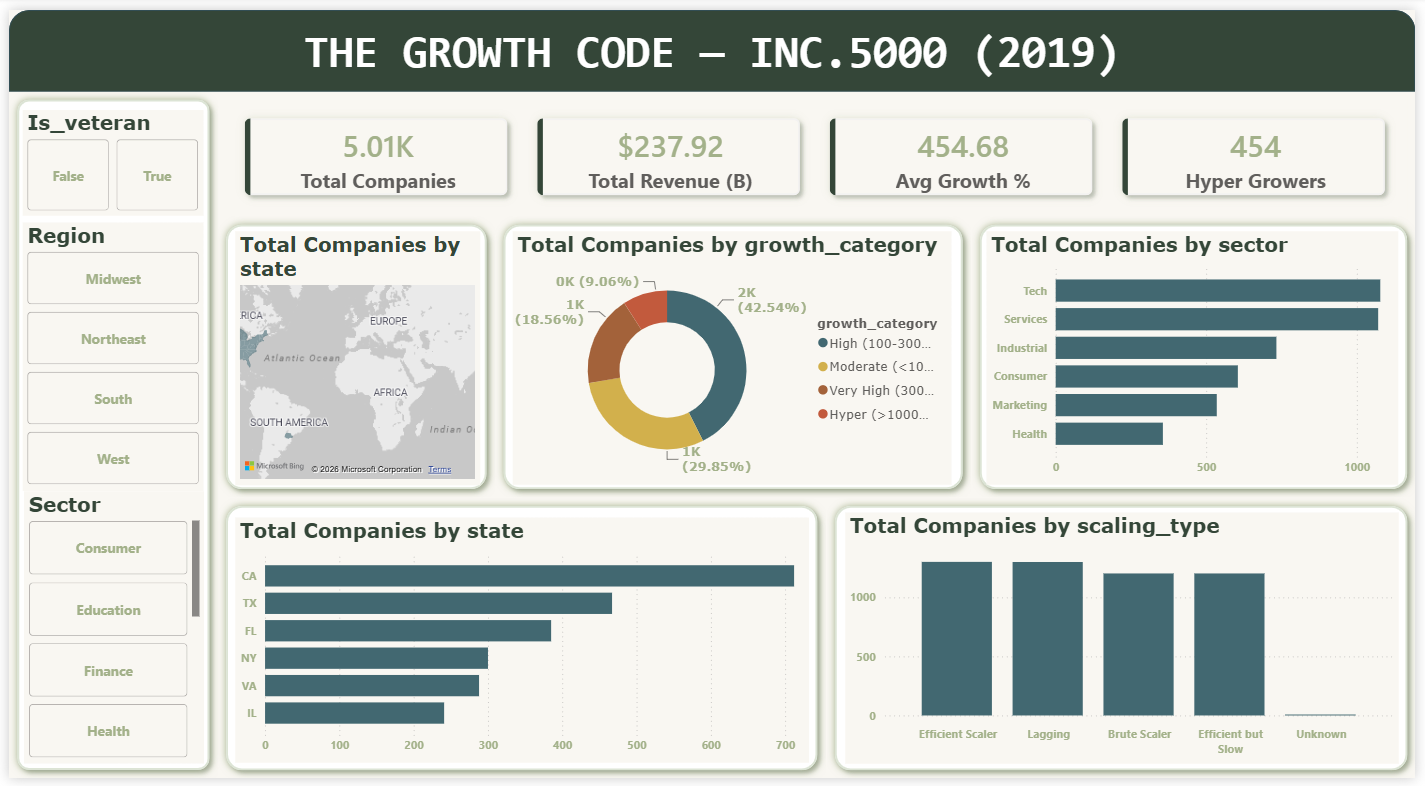

The dashboard page shown, as its layout file describes it:
{"tool":"powerbi","page":{"name":"Page 1","canvas":[1500,820],"ordinal":0},"visuals":[{"type":"cardVisual","fields":{"Data":["inc5000_analytics companies.Total Companies","inc5000_analytics companies.Total Revenue (B)","inc5000_analytics companies.Avg Growth %","inc5000_analytics companies.Hyper Growers"]},"box":[222.9,87.1,1277.1,140],"z":0},{"type":"shape","box":[0,0,1500,87.1],"z":1000},{"type":"textbox","box":[0,12,1500,74.7],"z":2000},{"type":"shape","box":[222.9,220,295.7,300],"z":3000},{"type":"filledMap","fields":{"Category":["inc5000_analytics companies.state"]},"box":[240.8,236.2,260.8,270],"z":4000},{"type":"shape","box":[518.8,220,507.5,300],"z":5000},{"type":"donutChart","fields":{"Category":["inc5000_analytics companies.growth_category"],"Y":["inc5000_analytics companies.Total Companies"]},"box":[537.7,236.2,467.7,270],"z":6000},{"type":"shape","box":[1026.2,220,473.8,300],"z":7000},{"type":"clusteredBarChart","fields":{"Category":["inc5000_analytics companies.sector"],"Y":["inc5000_analytics companies.Total Companies"]},"box":[1043.1,236.2,439.2,270],"z":8000},{"type":"shape","box":[0,87.1,222.9,732.9],"z":9000},{"type":"advancedSlicerVisual","fields":{"Values":["inc5000_analytics companies.region"]},"box":[15,227,193,286],"z":10000},{"type":"advancedSlicerVisual","fields":{"Values":["inc5000_analytics companies.is_veteran"]},"box":[15,107,193,113],"z":11000},{"type":"advancedSlicerVisual","fields":{"Values":["inc5000_analytics companies.sector"]},"box":[15.4,513.1,192.3,290],"z":12000},{"type":"shape","box":[222.9,520,648.6,300],"z":13000},{"type":"clusteredBarChart","fields":{"Category":["inc5000_analytics companies.state"],"Y":["inc5000_analytics companies.Total Companies"]},"box":[240.8,541.5,612.3,261.5],"z":14000},{"type":"shape","box":[871.4,520,628.6,300],"z":15000},{"type":"columnChart","fields":{"Category":["inc5000_analytics companies.scaling_type"],"Y":["inc5000_analytics companies.Total Companies"]},"box":[892.3,535.4,590.8,267.7],"z":16000}]}

Visuals, with their boxes in screenshot pixels (x1, y1, x2, y2), scaled from the page's 1500x820 canvas onto the 1425x786 screenshot:
cardVisual - inc5000_analytics companies.Total Companies x inc5000_analytics companies.Total Revenue (B): bbox=[212, 83, 1424, 218]
shape: bbox=[0, 0, 1424, 83]
textbox: bbox=[0, 12, 1424, 83]
shape: bbox=[212, 211, 493, 498]
filledMap - inc5000_analytics companies.state: bbox=[229, 226, 477, 485]
shape: bbox=[493, 211, 975, 498]
donutChart - inc5000_analytics companies.growth_category x inc5000_analytics companies.Total Companies: bbox=[511, 226, 955, 485]
shape: bbox=[975, 211, 1424, 498]
clusteredBarChart - inc5000_analytics companies.sector x inc5000_analytics companies.Total Companies: bbox=[991, 226, 1408, 485]
shape: bbox=[0, 83, 212, 785]
advancedSlicerVisual - inc5000_analytics companies.region: bbox=[14, 218, 198, 492]
advancedSlicerVisual - inc5000_analytics companies.is_veteran: bbox=[14, 103, 198, 211]
advancedSlicerVisual - inc5000_analytics companies.sector: bbox=[15, 492, 197, 770]
shape: bbox=[212, 498, 828, 785]
clusteredBarChart - inc5000_analytics companies.state x inc5000_analytics companies.Total Companies: bbox=[229, 519, 810, 770]
shape: bbox=[828, 498, 1424, 785]
columnChart - inc5000_analytics companies.scaling_type x inc5000_analytics companies.Total Companies: bbox=[848, 513, 1409, 770]
